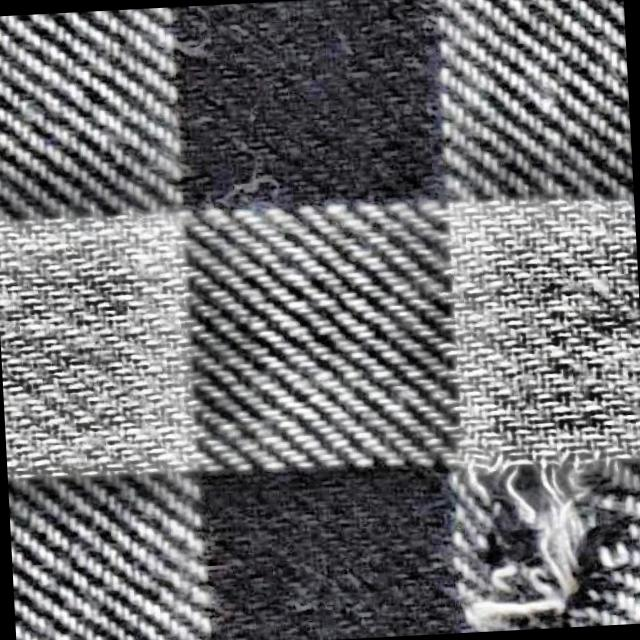cut: (411, 400, 640, 635)
